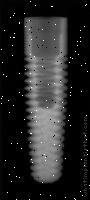Implant Direct: (23, 17, 68, 185)
